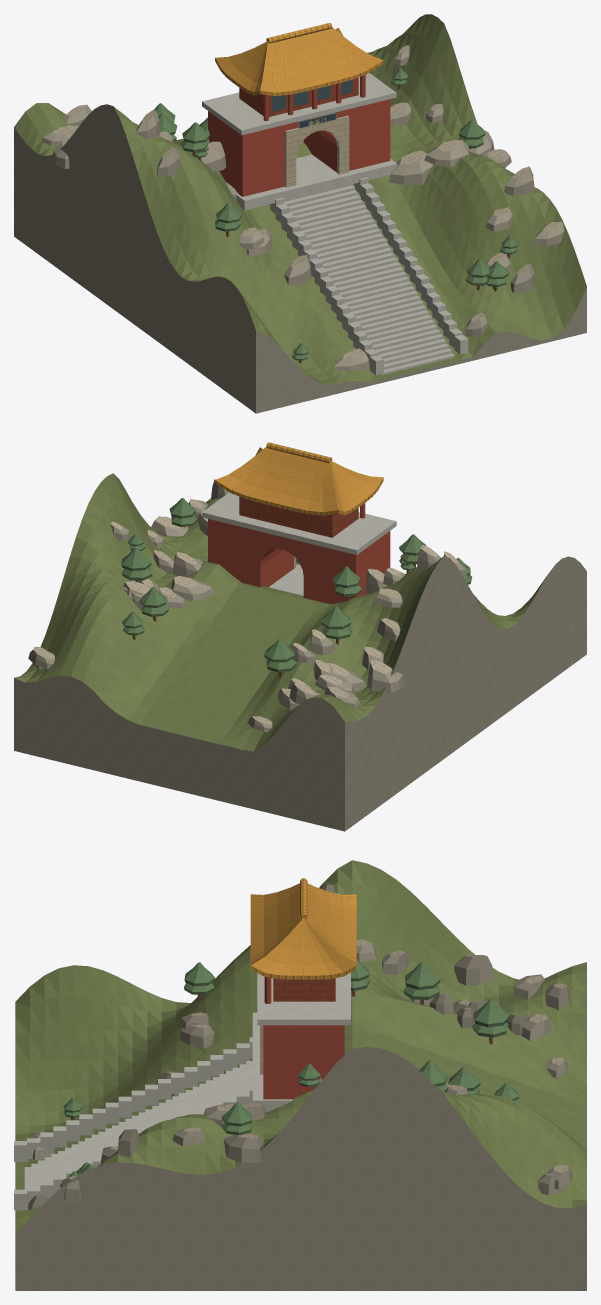
The model's file is taishan.glb.
The picture shows the model from 3 angles, top to bottom: view 1: azimuth 30°, elevation 25°; view 2: azimuth 150°, elevation 25°; view 3: azimuth 270°, elevation 25°; orthographic projection. The views are drawn at different scales.
Visible parts, largest first — view 1: 泰山南天门; view 2: 泰山南天门; view 3: 泰山南天门.
Part boxes in pixels (x1,y1,x2,y2): 泰山南天门: (14,14,586,413); 泰山南天门: (14,442,586,831); 泰山南天门: (14,860,586,1290).
Bounding box in the file's own units: 12.43 × 8.78 × 15.23.
Materials: 12 (8 with a texture image).
